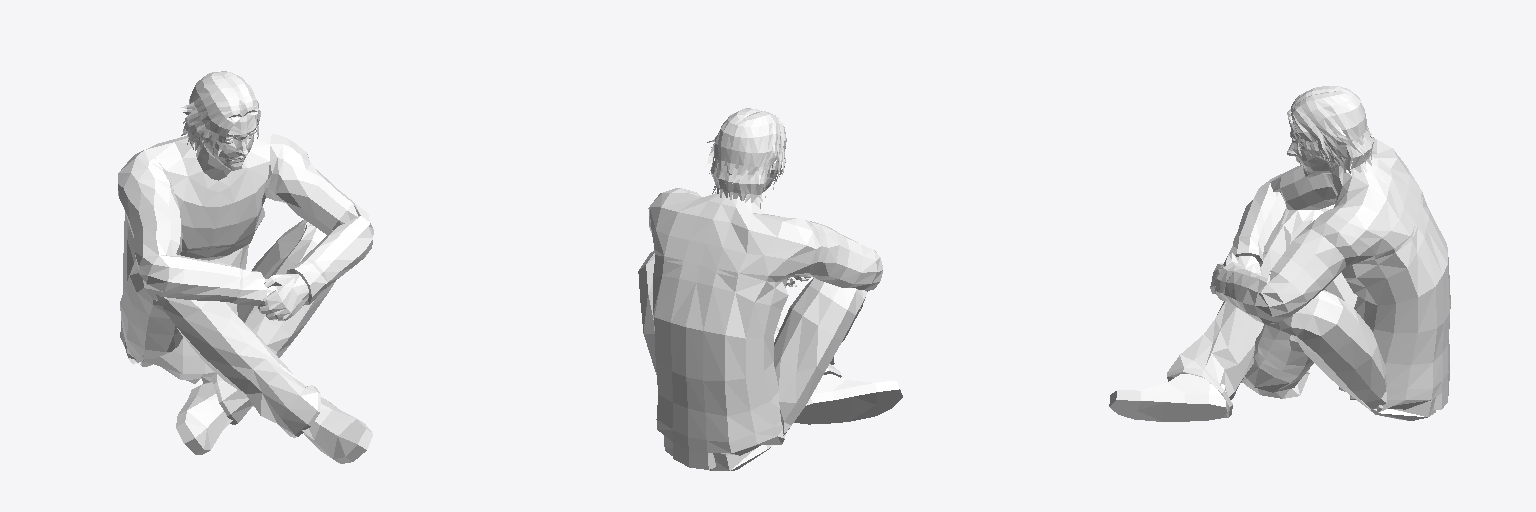
Rendered from sitMale03.obj.
The picture shows the model from 3 angles: view 1: azimuth 30°, elevation 25°; view 2: azimuth 150°, elevation 25°; view 3: azimuth 270°, elevation 25°; orthographic projection.
Visible parts, largest first — view 1: 3, 1, 4; view 2: 3, 1; view 3: 3, 1, 4.
Boxes of the visible parts, x1,y1,x2,y2 form: 3: [118, 133, 373, 463]; 1: [181, 71, 260, 155]; 4: [197, 115, 257, 180]; 3: [638, 188, 902, 470]; 1: [705, 108, 786, 202]; 3: [1109, 137, 1450, 421]; 1: [1287, 86, 1373, 177]; 4: [1287, 130, 1355, 195].
Size of the model in its own units: 67.6 by 92.7 by 88.4.